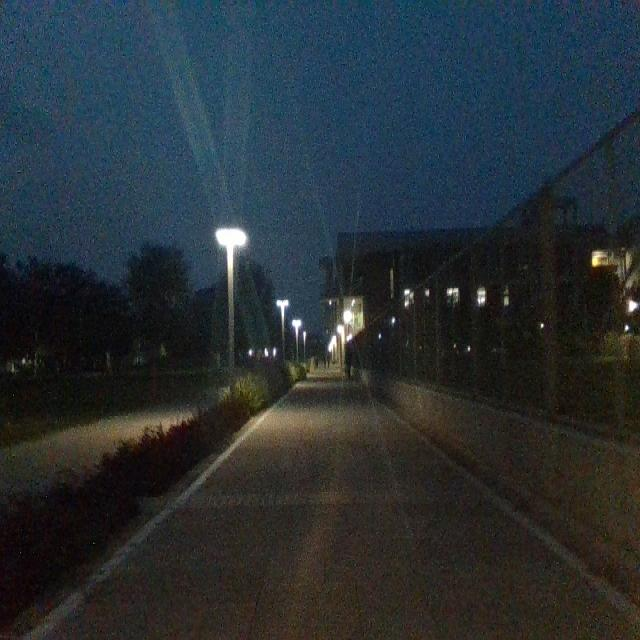lane: (51, 382, 639, 640)
